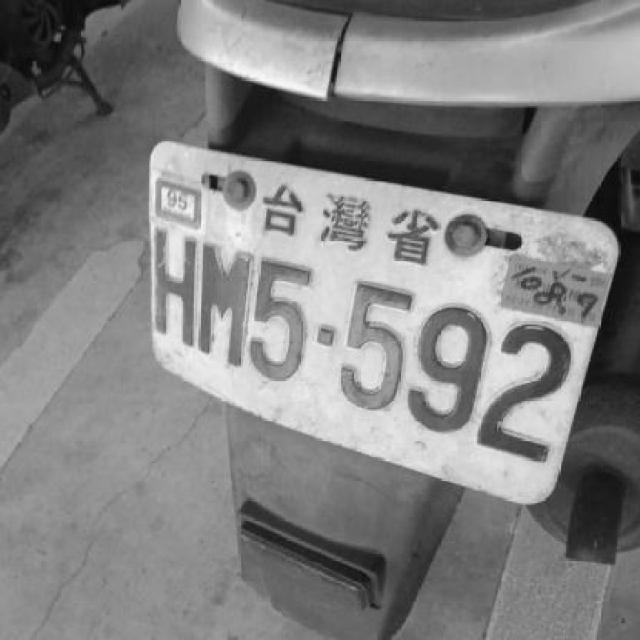-: (312, 322, 338, 352)
2: (471, 318, 574, 465)
5: (330, 279, 415, 414), (242, 256, 313, 382)
9: (406, 302, 488, 433)
H: (151, 223, 195, 345)
M: (196, 242, 252, 364)
